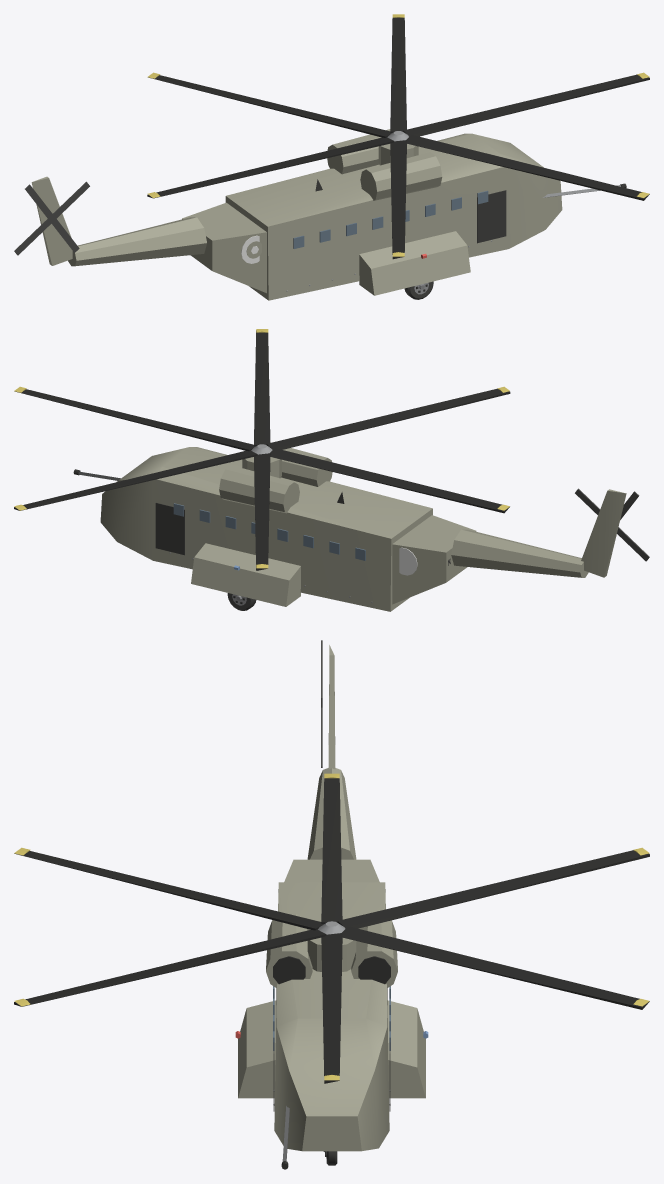
File: lift.glb
The picture shows the model from 3 angles, top to bottom: view 1: azimuth 30°, elevation 25°; view 2: azimuth 150°, elevation 25°; view 3: azimuth 270°, elevation 25°; orthographic projection. The views are drawn at different scales.
Parts seen in each view (by area): view 1: hull, turret; view 2: hull, turret; view 3: hull, turret.
Part boxes in pixels (bbox=[...]): hull: bbox=[14, 129, 626, 300]; turret: bbox=[147, 14, 649, 259]; hull: bbox=[73, 442, 649, 611]; turret: bbox=[14, 329, 510, 570]; hull: bbox=[235, 640, 428, 1169]; turret: bbox=[14, 773, 649, 1083].
Size of the model in its own units: 21.79 by 5.93 by 14.9.
